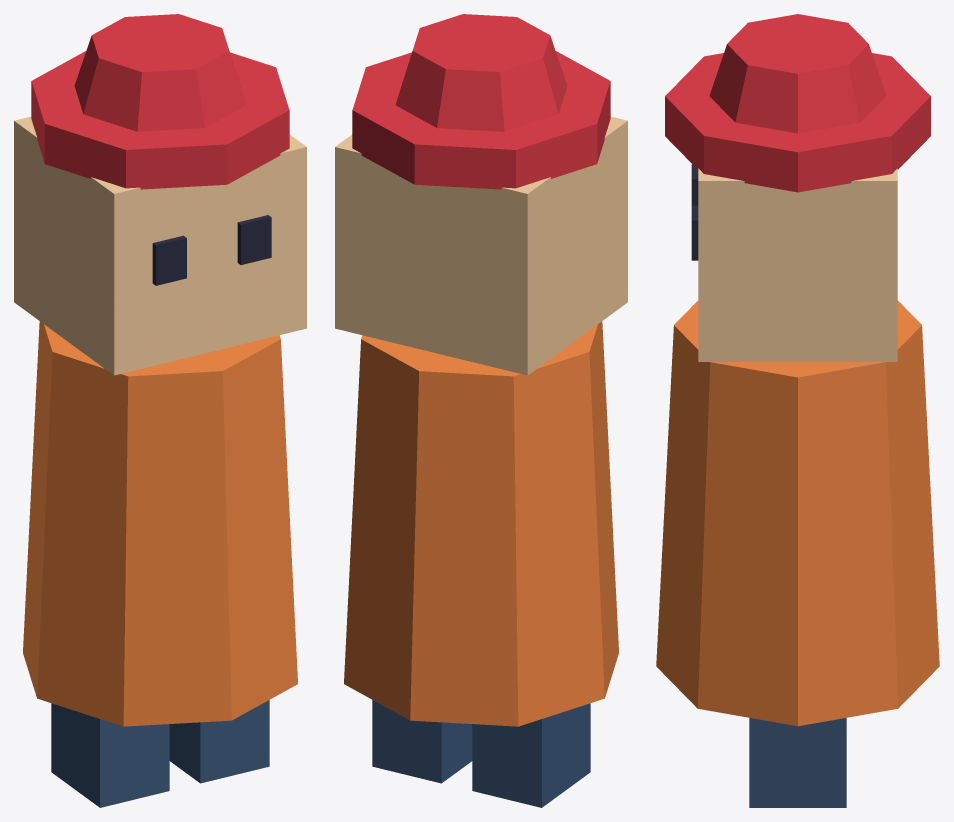
File: heroi.glb
The picture shows the model from 3 angles, left to right: view 1: azimuth 30°, elevation 25°; view 2: azimuth 150°, elevation 25°; view 3: azimuth 270°, elevation 25°; orthographic projection.
Parts seen in each view (by area): view 1: heroi; view 2: heroi; view 3: heroi.
Boxes of the visible parts, box(x1,y1,x2,y2) form: heroi: box(14, 14, 306, 807); heroi: box(335, 14, 627, 807); heroi: box(656, 14, 939, 807).
Size of the model in its own units: 0.64 by 1.8 by 0.64.
